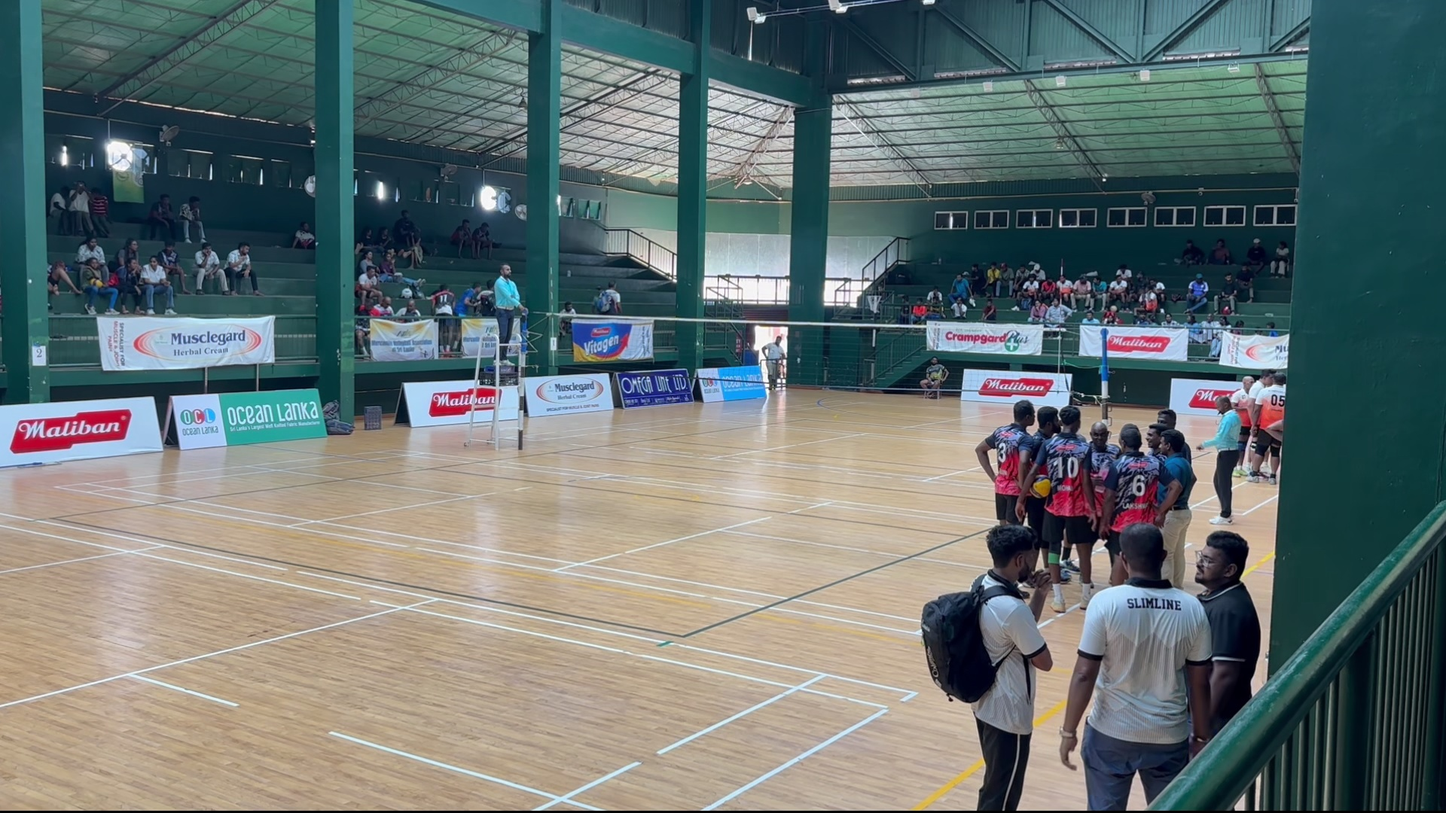Ball: (491, 261, 528, 362)
Payer_B: (1032, 410, 1090, 585), (1046, 411, 1096, 586), (1079, 420, 1122, 593), (1111, 430, 1158, 585), (986, 405, 1029, 537), (1024, 411, 1058, 576), (996, 407, 1036, 541)
